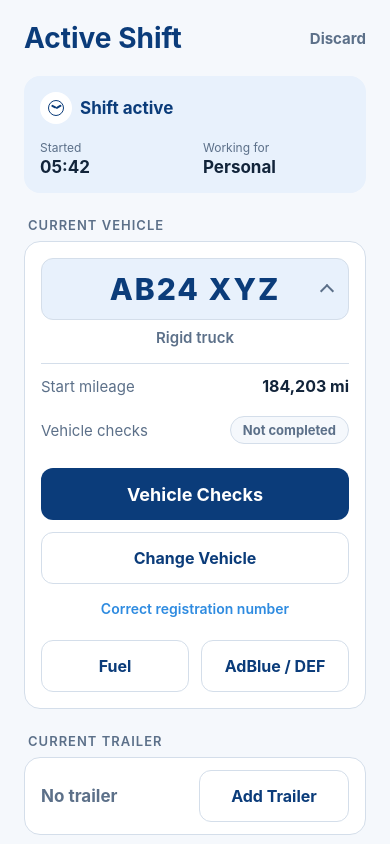
Test case: the WHOLE folded card is one control, and pressing it opens the card again
Click the button with test id "current-vehicle-toggle". click: (195, 289)
box: [41,258,349,320]
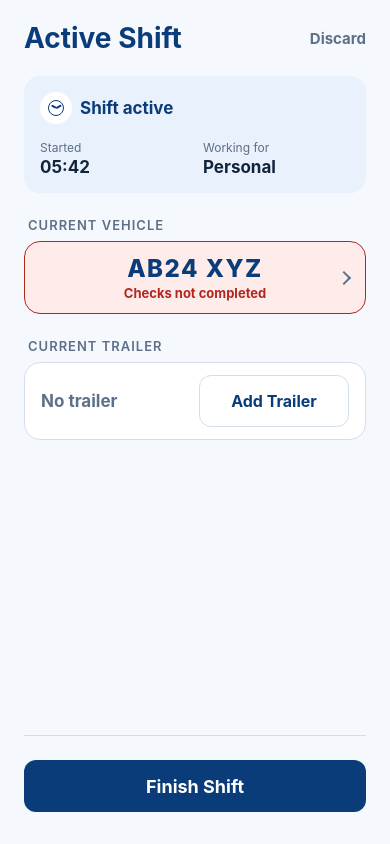
Expected: the text "AB24 XYZ" is shown, [127,254,263,283]
Click the button with test id "current-vehicle-toggle". click: (195, 278)
box: [25,242,365,313]
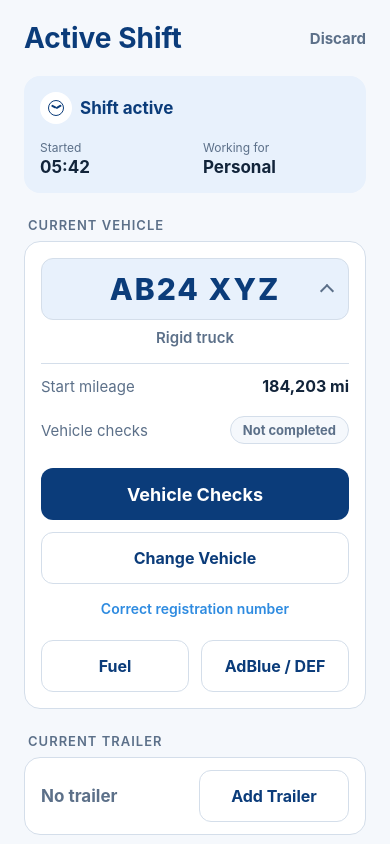
Result: the text "Rigid truck" is shown at [156,328,234,347]
Result: the text "184,203 mi" is shown at [262,376,349,396]
Result: the button with test id "vehicle-checks" is shown at [41,468,349,520]
